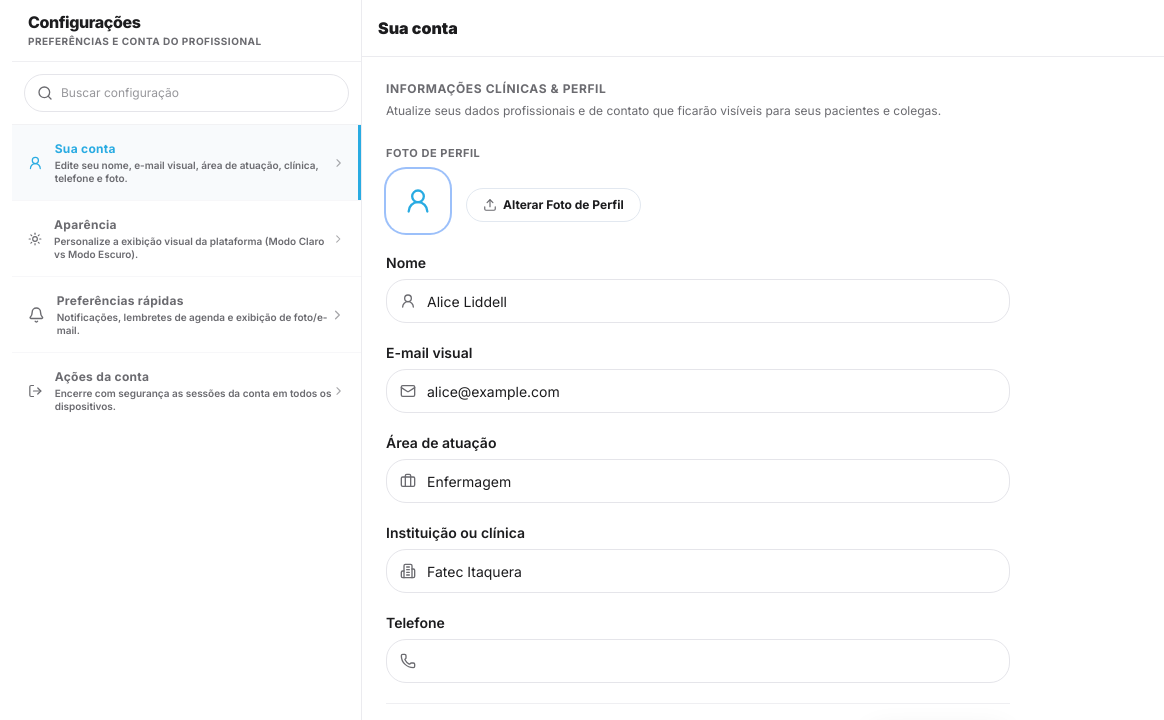
Test: SettingsPage › restaura a preferência anterior quando a persistência falha
The width and height of the screenshot is (1164, 720).
Click the button "Preferências rápidas". click: (186, 314)
box: top-left (12, 276), bottom-right (361, 352)
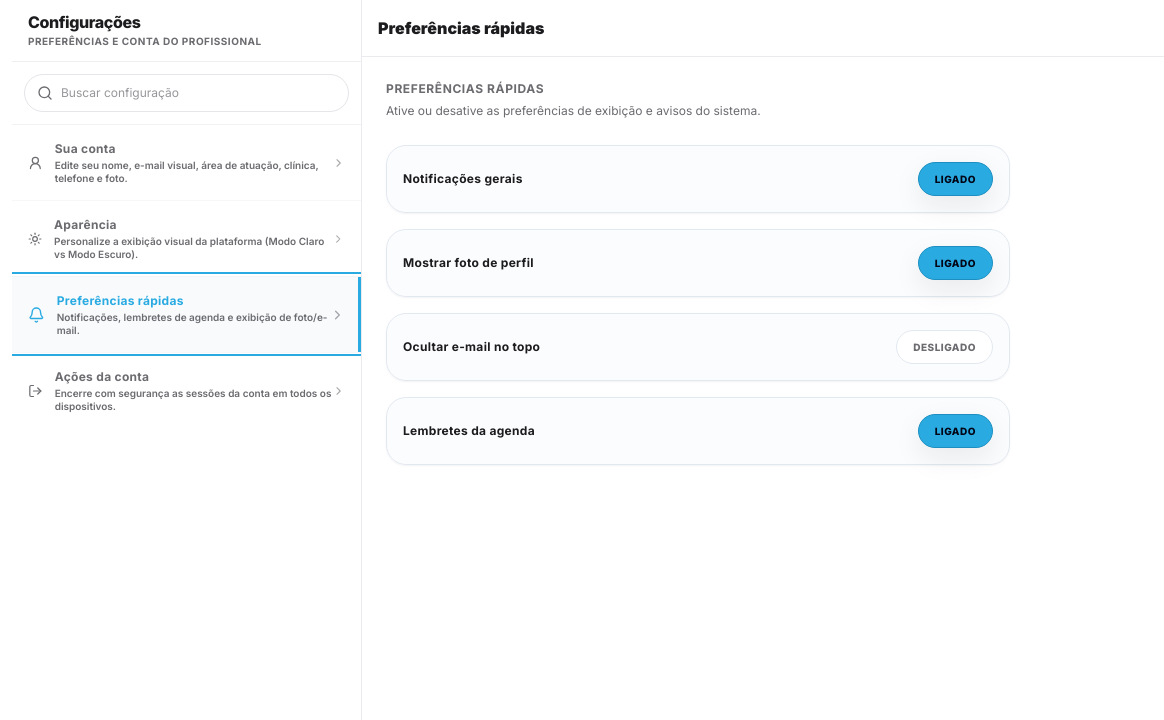
Result: the text "Notificações gerais" is shown at top-left (403, 170), bottom-right (523, 186)
Click the button "LIGADO" in the row of "Notificações gerais". click: (955, 178)
box: top-left (918, 162), bottom-right (993, 196)
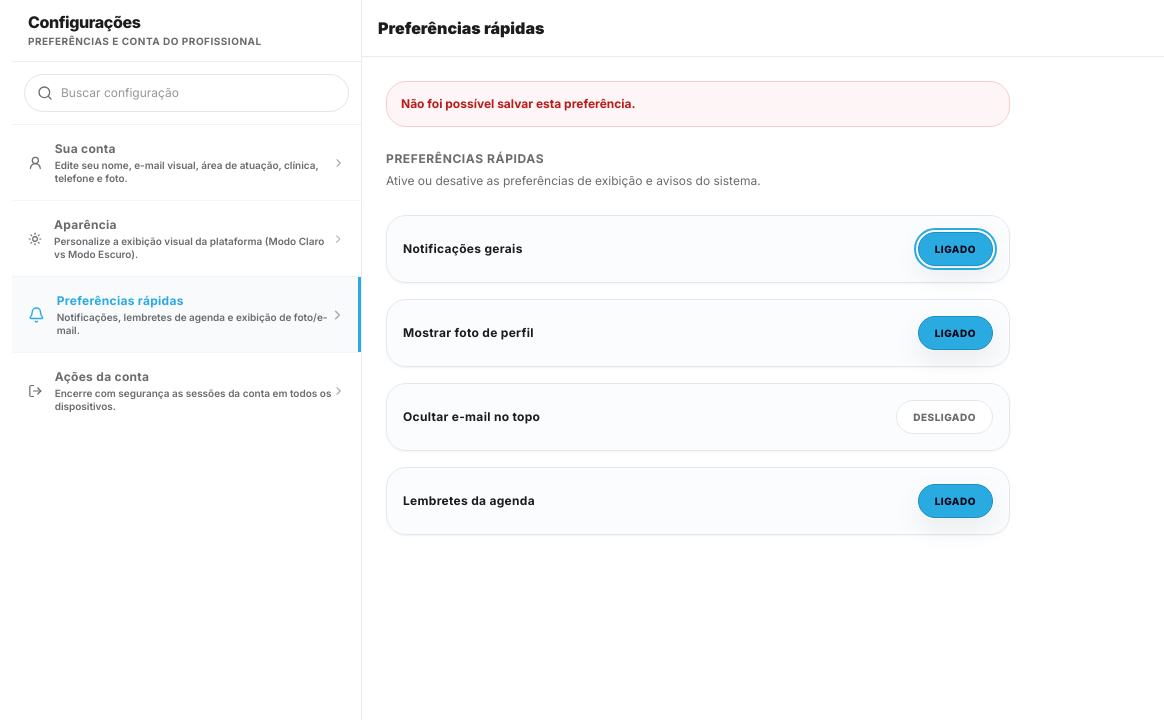
Result: the text "Notificações gerais" is shown at top-left (403, 240), bottom-right (523, 256)
Result: the button "LIGADO" in the row of "Notificações gerais" is shown at top-left (918, 232), bottom-right (993, 266)
Result: the message reads "Não foi possível salvar esta preferência." at top-left (401, 96), bottom-right (636, 111)
